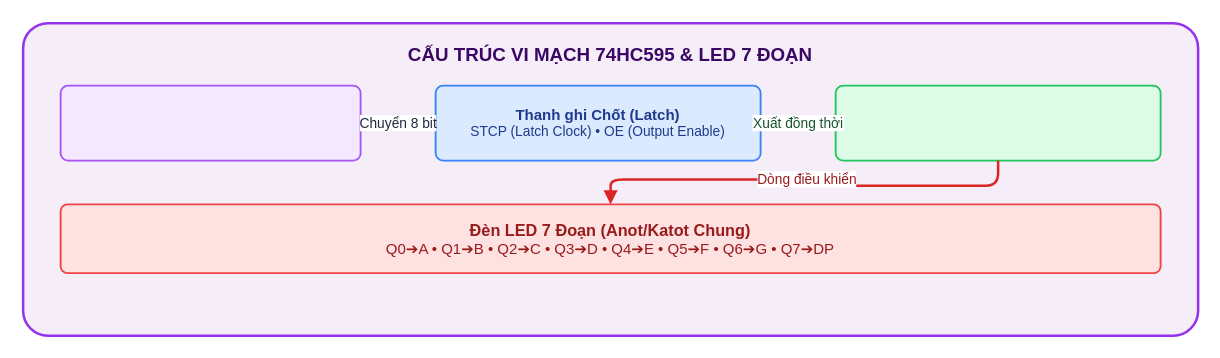
Some shapes in this 1220 by 358 pixel diagram are drawn without their labels. Each missing label, with the box of its shape:
8 Ngõ ra Song song Q0, Q1, Q2, Q3, Q4, Q5, Q6, Q7: (834, 84, 1161, 161)
Thanh ghi Dịch 8-bit DS (Data) • SHCP (Shift Clock): (59, 84, 361, 161)
